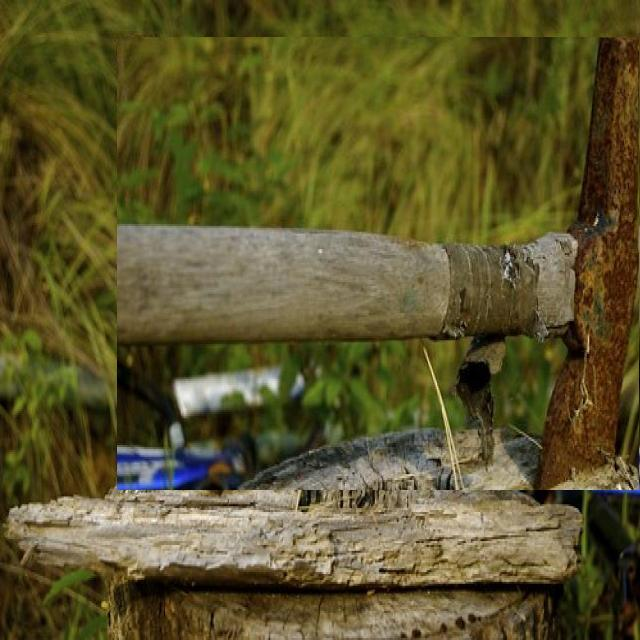Axe: (118, 37, 639, 490)
